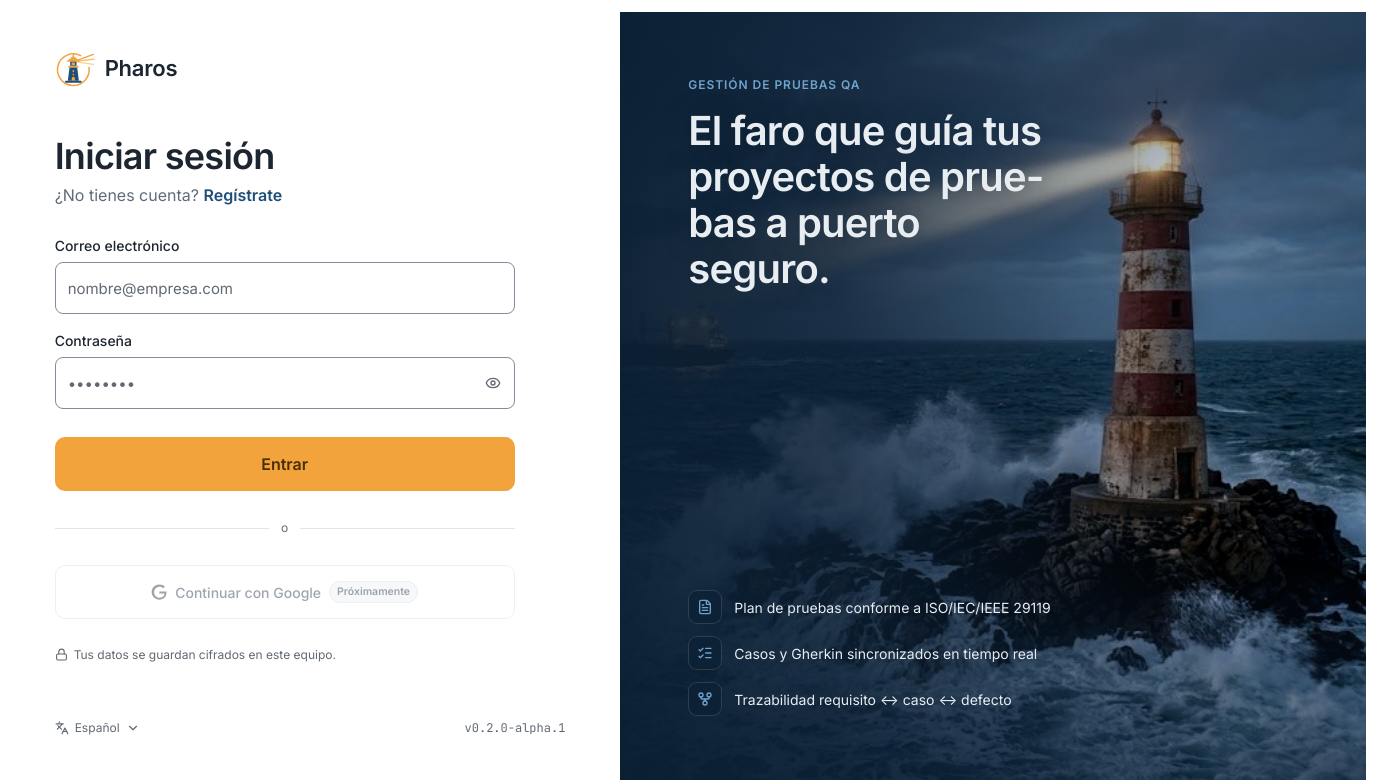
auth screen › shows a localized error on invalid credentials
Type "qa@pharos.dev" into the field labelled "Correo electrónico".
click(285, 288); type("qa@pharos.dev")  # box top-left (55, 262), bottom-right (515, 314)
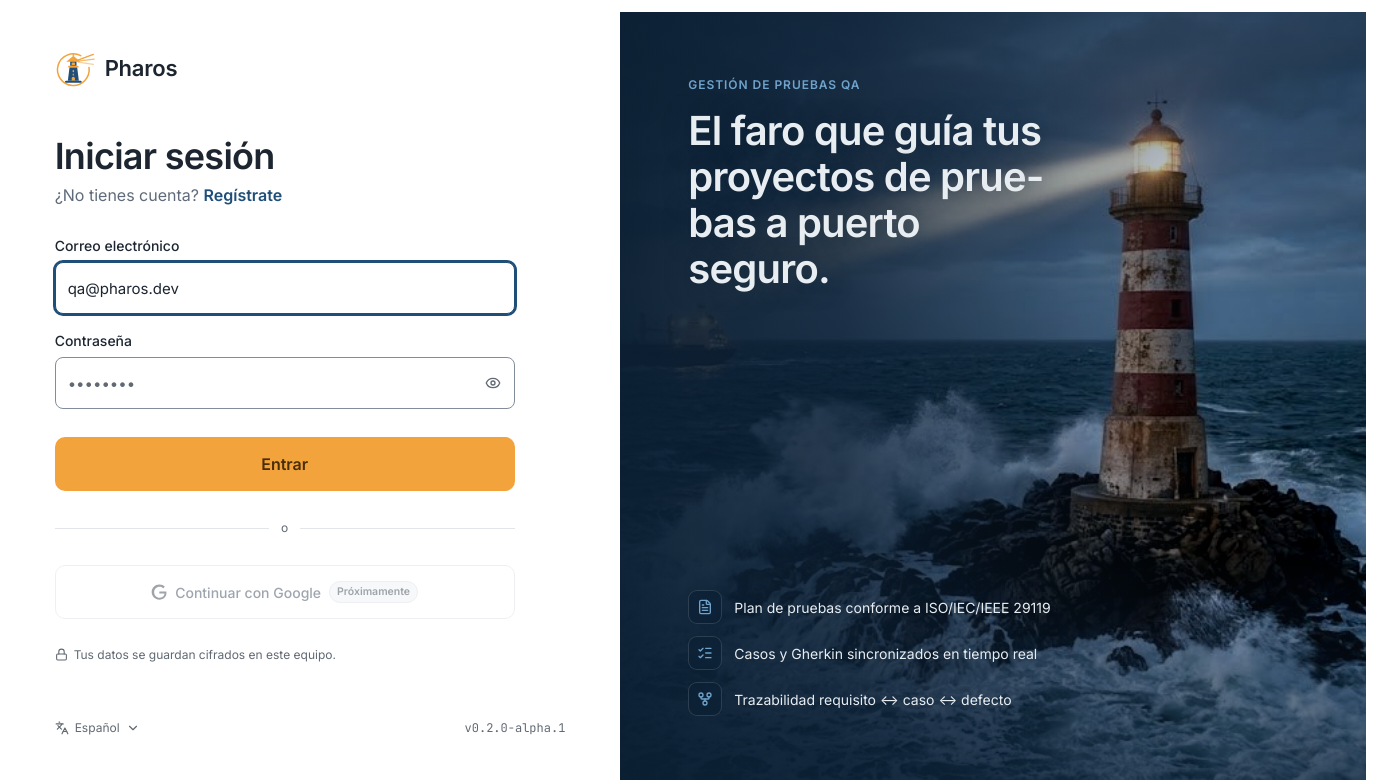
Type "wrongpass" into the password field labelled "Contraseña".
click(285, 383); type("wrongpass")  # box top-left (55, 357), bottom-right (515, 409)
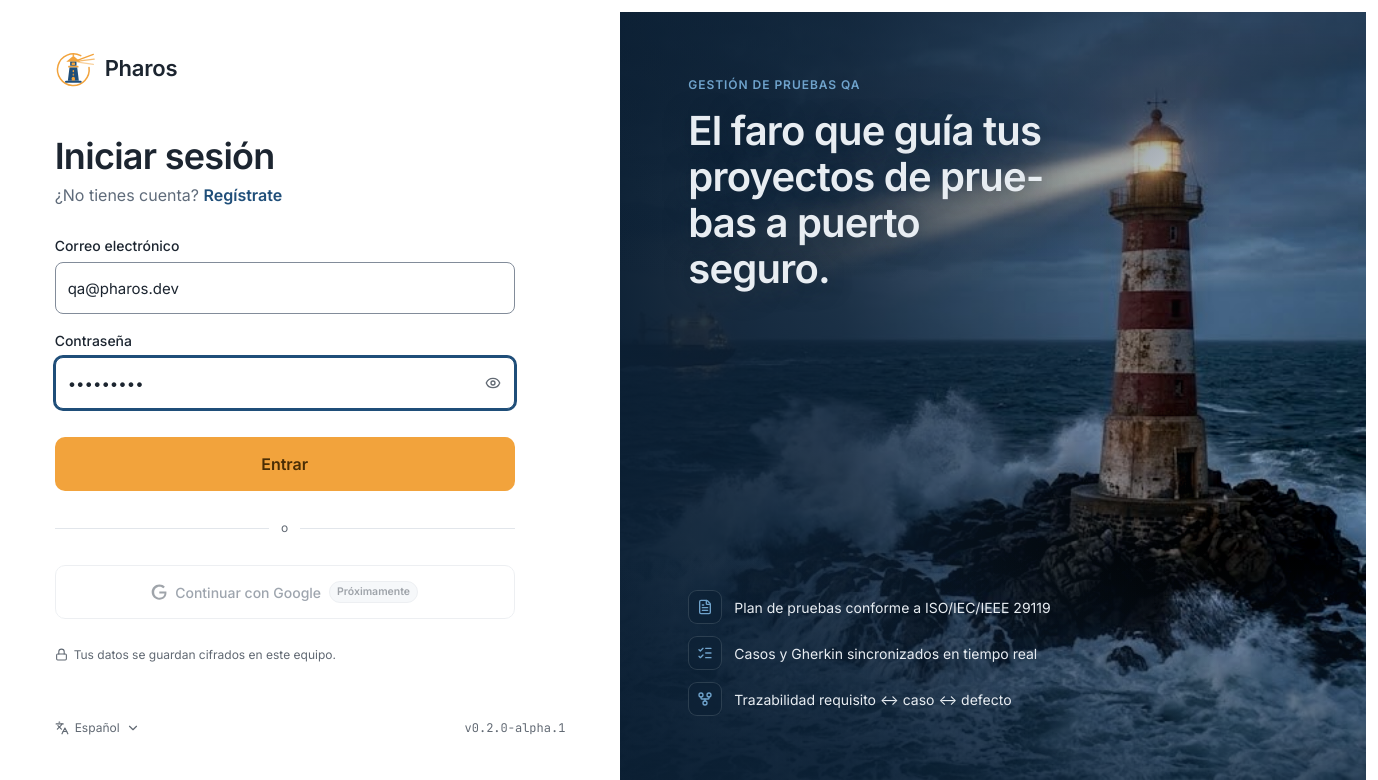
Click the button "Entrar".
click(285, 464)  # box top-left (55, 437), bottom-right (515, 491)
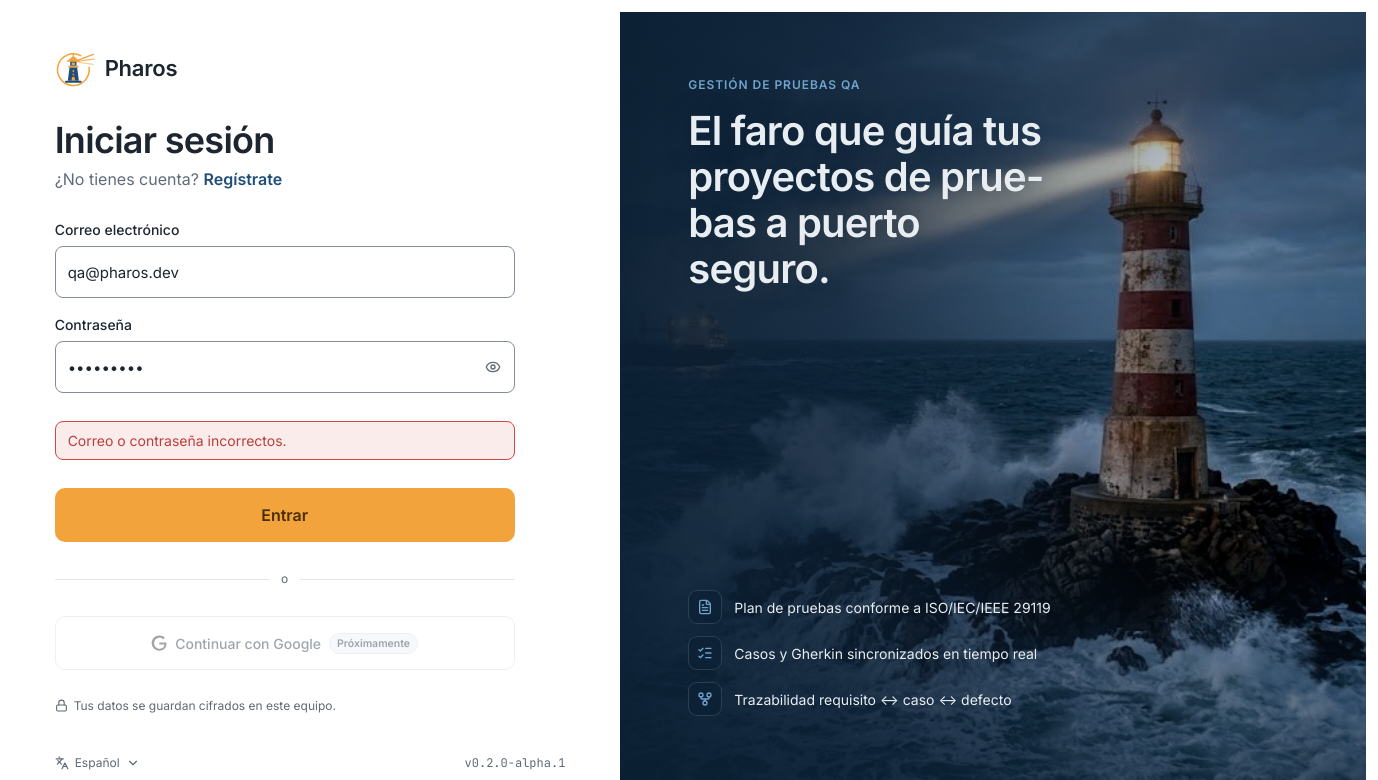
Expected: the message reads "Correo o contraseña incorrectos.", top-left (68, 432), bottom-right (287, 449)
